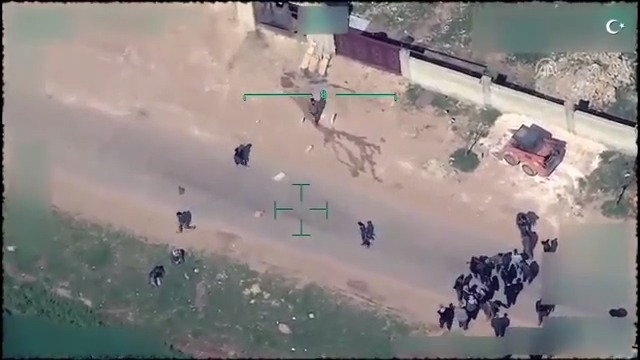insan: (170, 204, 199, 233), (354, 215, 376, 248), (304, 94, 325, 128), (433, 299, 453, 329), (230, 141, 250, 166), (487, 311, 502, 338)
